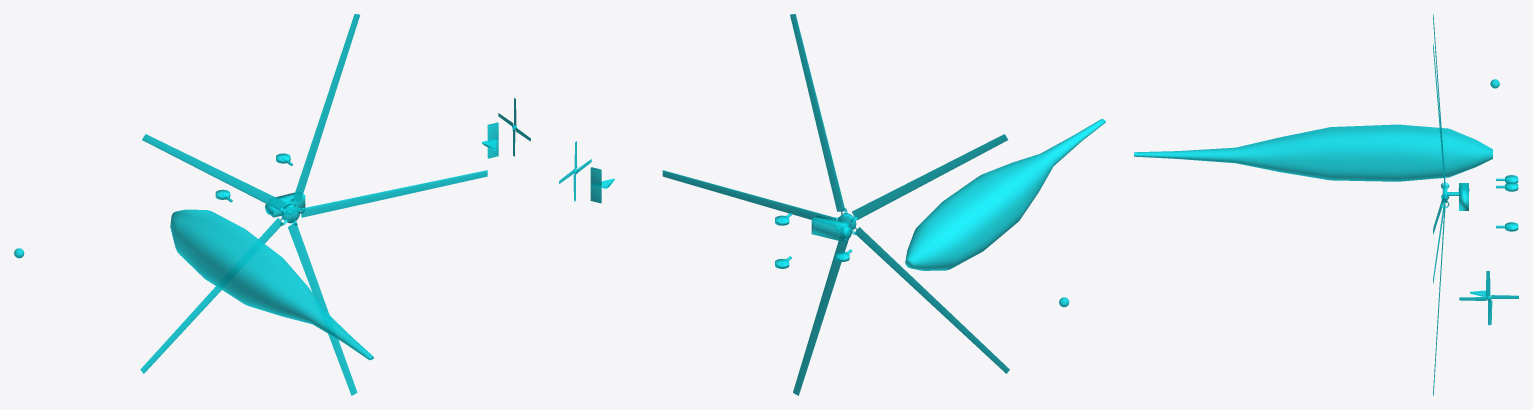
Rendered from uh169d_hologram.glb.
The picture shows the model from 3 angles, left to right: view 1: azimuth 30°, elevation 25°; view 2: azimuth 150°, elevation 25°; view 3: azimuth 270°, elevation 25°; orthographic projection. The views are drawn at different scales.
Bounding box in the file's own units: 15.68 × 11.47 × 11.36.
